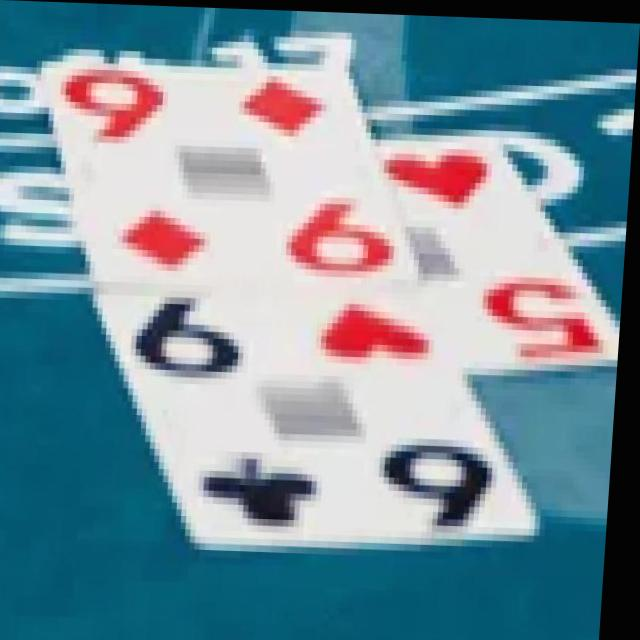Card-5: (259, 132, 623, 368)
Card-6: (100, 289, 546, 544)
Card-9: (47, 63, 422, 293)
